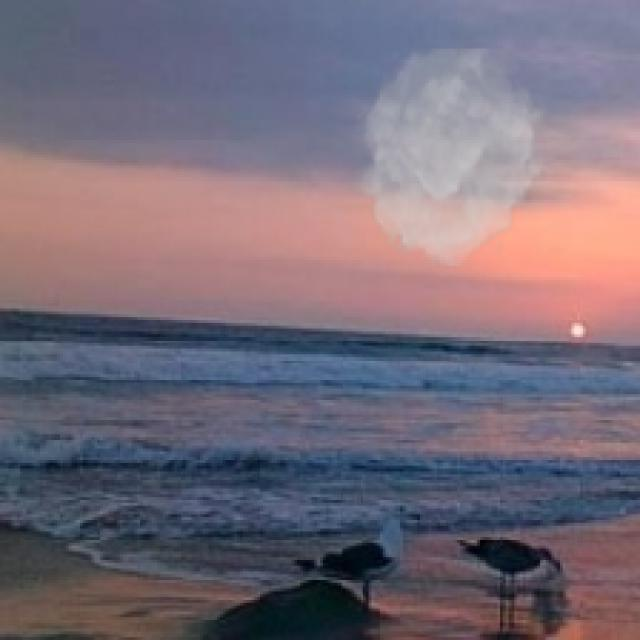Smoke: (348, 48, 554, 266)
